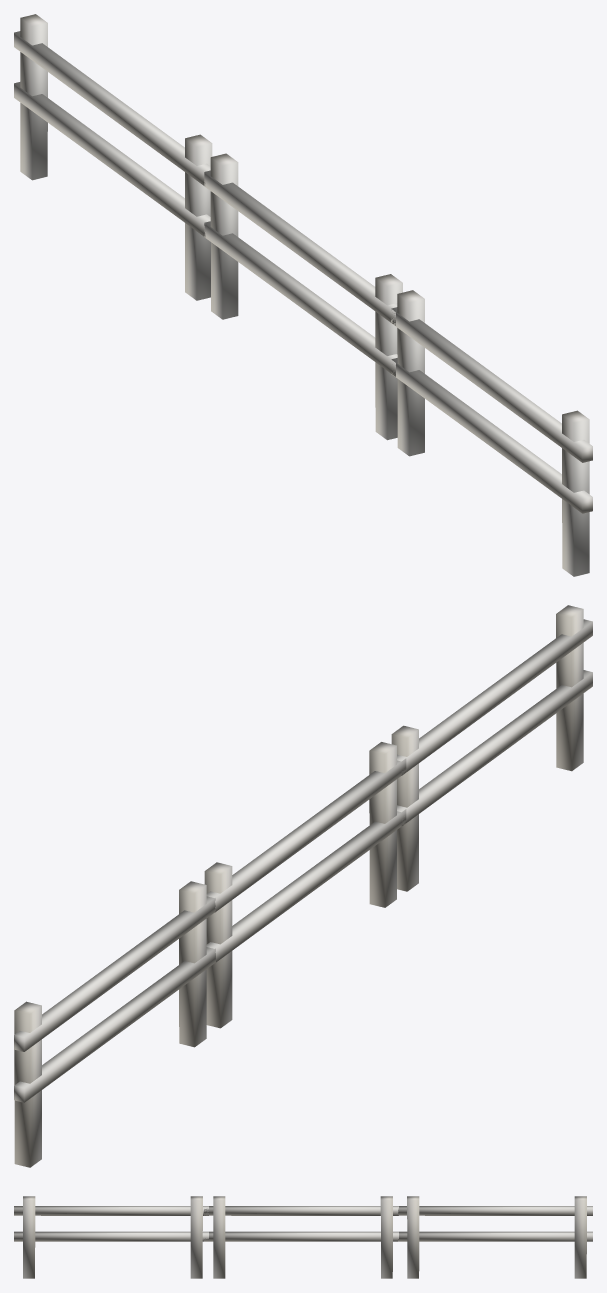
File: SM_Blockout_Cow_Pen_01.fbx
3 renders of one model, top to bottom at view 1: azimuth 30°, elevation 25°; view 2: azimuth 150°, elevation 25°; view 3: azimuth 270°, elevation 25°, orthographic. The views are drawn at different scales.
Parts seen in each view (by area): view 1: SM_Blockout_Cow_Pen_01; view 2: SM_Blockout_Cow_Pen_01; view 3: SM_Blockout_Cow_Pen_01.
Boxes of the visible parts, x1,y1,x2,y2 form: SM_Blockout_Cow_Pen_01: (14, 14, 592, 576); SM_Blockout_Cow_Pen_01: (14, 605, 592, 1167); SM_Blockout_Cow_Pen_01: (14, 1196, 592, 1278).
Size of the model in its own units: 0.0535 by 0.492 by 3.3.
